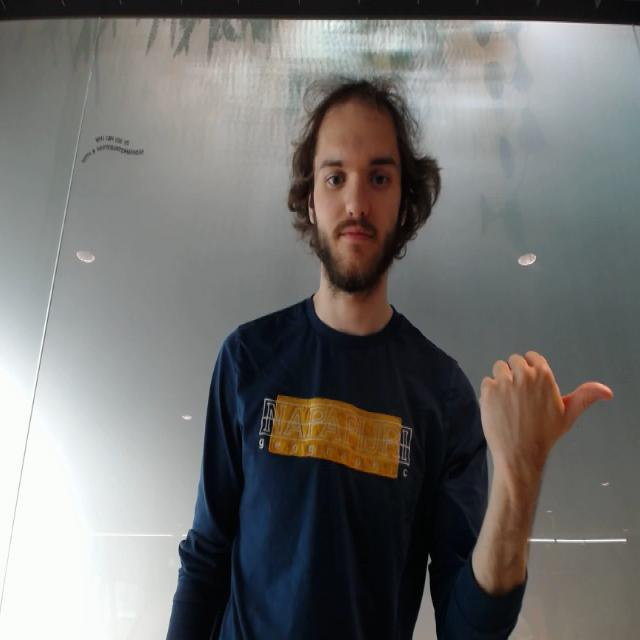right: (476, 346, 618, 461)
